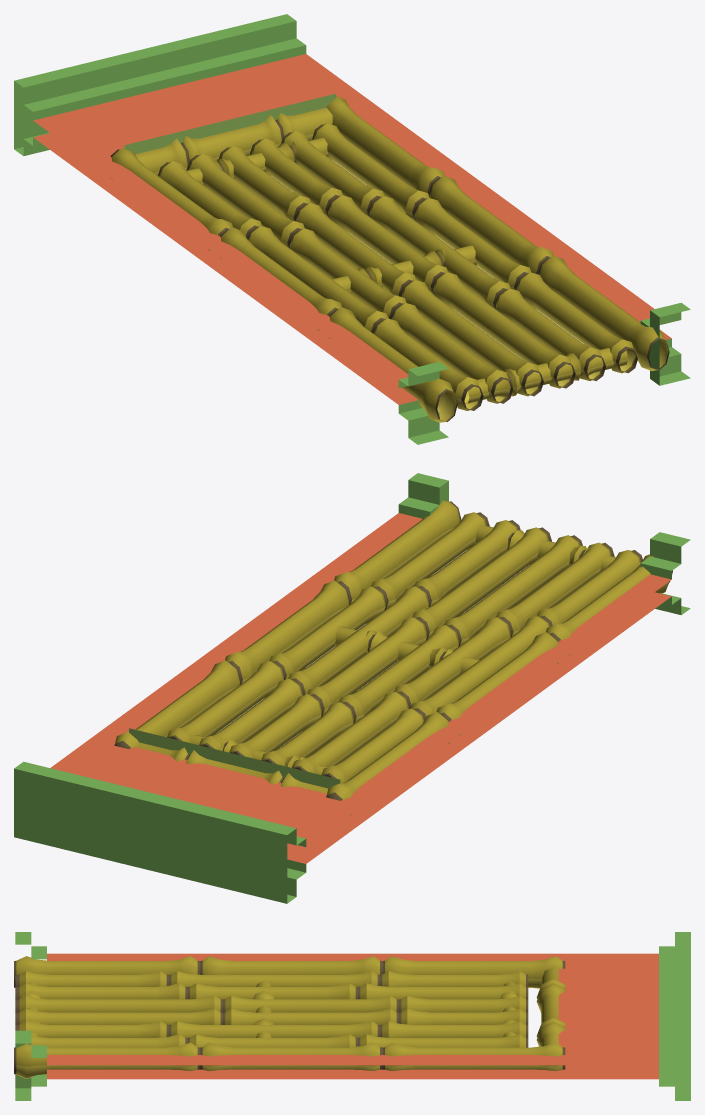
Rendered from Env_Wall_Door.fbx.
The picture shows the model from 3 angles, top to bottom: view 1: azimuth 30°, elevation 25°; view 2: azimuth 150°, elevation 25°; view 3: azimuth 270°, elevation 25°; orthographic projection. The views are drawn at different scales.
Visible parts, largest first — view 1: Env_Wall_Door, Env_DoorA; view 2: Env_Wall_Door, Env_DoorA; view 3: Env_Wall_Door, Env_DoorA.
Part boxes in pixels (left/top/right/bottom): Env_Wall_Door: left=14, top=14, right=690, bottom=444; Env_DoorA: left=158, top=123, right=637, bottom=410; Env_Wall_Door: left=14, top=473, right=690, bottom=903; Env_DoorA: left=167, top=512, right=642, bottom=783; Env_Wall_Door: left=14, top=932, right=690, bottom=1100; Env_DoorA: left=15, top=971, right=528, bottom=1047.
Bounding box in the file's own units: 1 × 0.2401 × 2.57.
